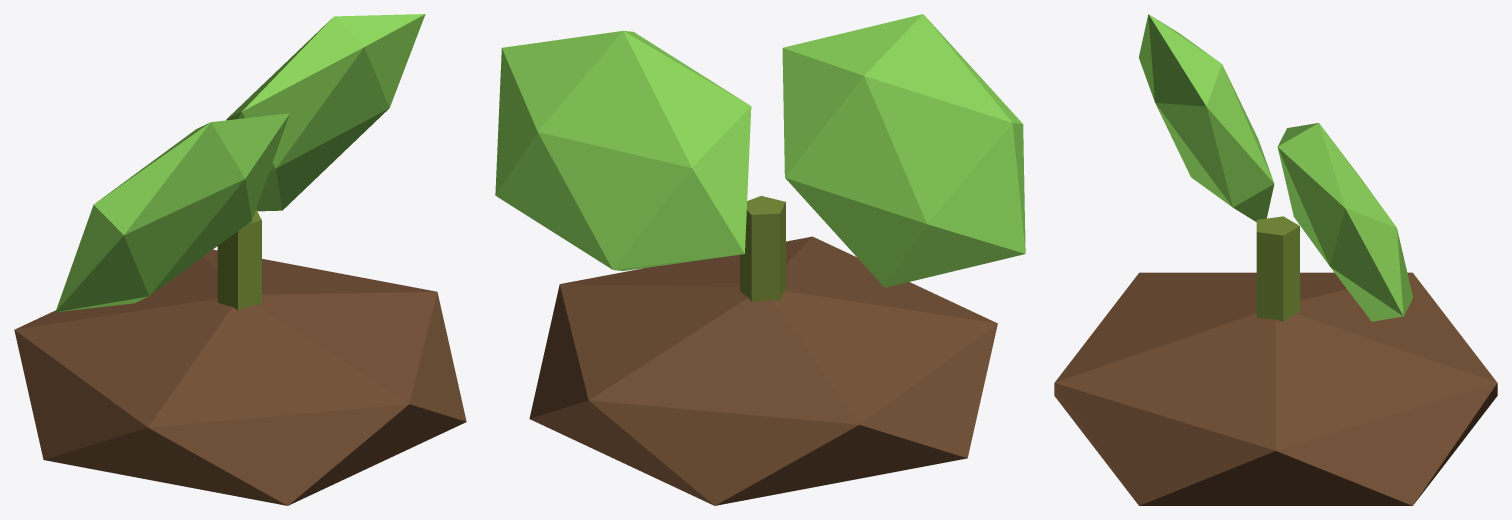
Rendered from crop_pumpkin_1.glb.
The picture shows the model from 3 angles, left to right: view 1: azimuth 30°, elevation 25°; view 2: azimuth 150°, elevation 25°; view 3: azimuth 270°, elevation 25°; orthographic projection. The views are drawn at different scales.
Visible parts, largest first — view 1: crop_pumpkin_1; view 2: crop_pumpkin_1; view 3: crop_pumpkin_1.
Boxes of the visible parts, x1,y1,x2,y2 form: crop_pumpkin_1: (14, 14, 466, 505); crop_pumpkin_1: (495, 14, 1025, 505); crop_pumpkin_1: (1054, 14, 1497, 505).
Bounding box in the file's own units: 0.3361 × 0.2951 × 0.2875.
